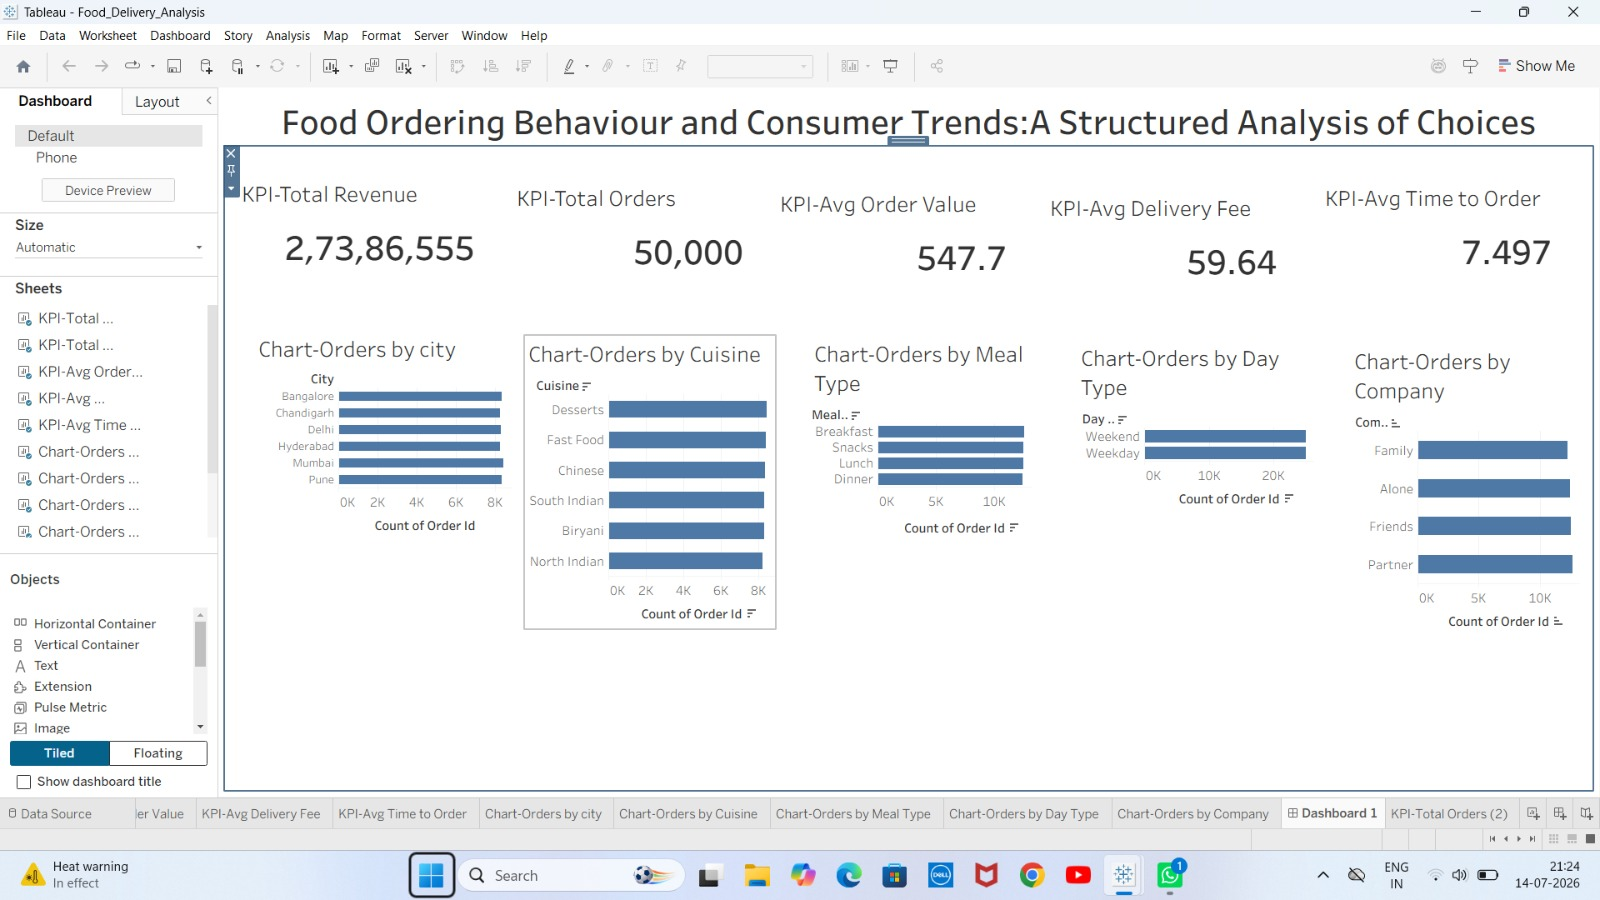

Layout of this report page (visuals, bound fields, positions):
{"tool":"tableau","page":{"name":"Dashboard 1","canvas":[1000,1000],"units":"permille","ordinal":0},"visuals":[{"type":"worksheet","title":"KPI-Total Revenue","mark":"Automatic","box":[12.1,23.5,173.2,141]},{"type":"worksheet","title":"KPI-Total Orders","mark":"Automatic","box":[187.1,23.5,169,141]},{"type":"worksheet","title":"KPI-Avg Order Value","mark":"Automatic","box":[362.1,23.5,169,141]},{"type":"worksheet","title":"KPI-Avg Delivery Fee","mark":"Automatic","box":[537.1,23.5,169,141]},{"type":"worksheet","title":"KPI-Avg Time to Order","mark":"Automatic","box":[712.1,23.5,169,141]},{"type":"worksheet","title":"Chart-Orders by Company","mark":"Automatic","rows":["company"],"cols":["order_id"],"box":[809.3,189.2,166,412.5]},{"type":"worksheet","title":"Chart-Orders by Day Type","mark":"Automatic","rows":["day_type"],"cols":["order_id"],"box":[613.8,203.3,171.4,413.6]},{"type":"worksheet","title":"Chart-Orders by city","mark":"Automatic","rows":["city"],"cols":["order_id"],"box":[12.1,211.5,185.9,414.8]},{"type":"worksheet","title":"Chart-Orders by Cuisine","mark":"Automatic","rows":["cuisine"],"cols":["order_id"],"box":[211.2,211.5,181.1,412.5]},{"type":"worksheet","title":"Chart-Orders by Meal Type","mark":"Automatic","rows":["meal_type"],"cols":["order_id"],"box":[410.4,211.5,159.9,412.5]}]}

Visuals, with their boxes on the dashboard's canvas, which has no fixed pixel size, in thousandths of its width and height (x1, y1, x2, y2). These are canvas units, not pixel positions in the 1600x900 screenshot, which may show the page scaled, cropped or inside an application window:
"KPI-Total Revenue" worksheet: bbox=[12, 24, 185, 164]
"KPI-Total Orders" worksheet: bbox=[187, 24, 356, 164]
"KPI-Avg Order Value" worksheet: bbox=[362, 24, 531, 164]
"KPI-Avg Delivery Fee" worksheet: bbox=[537, 24, 706, 164]
"KPI-Avg Time to Order" worksheet: bbox=[712, 24, 881, 164]
"Chart-Orders by Company" worksheet: bbox=[809, 189, 975, 602]
"Chart-Orders by Day Type" worksheet: bbox=[614, 203, 785, 617]
"Chart-Orders by city" worksheet: bbox=[12, 212, 198, 626]
"Chart-Orders by Cuisine" worksheet: bbox=[211, 212, 392, 624]
"Chart-Orders by Meal Type" worksheet: bbox=[410, 212, 570, 624]
